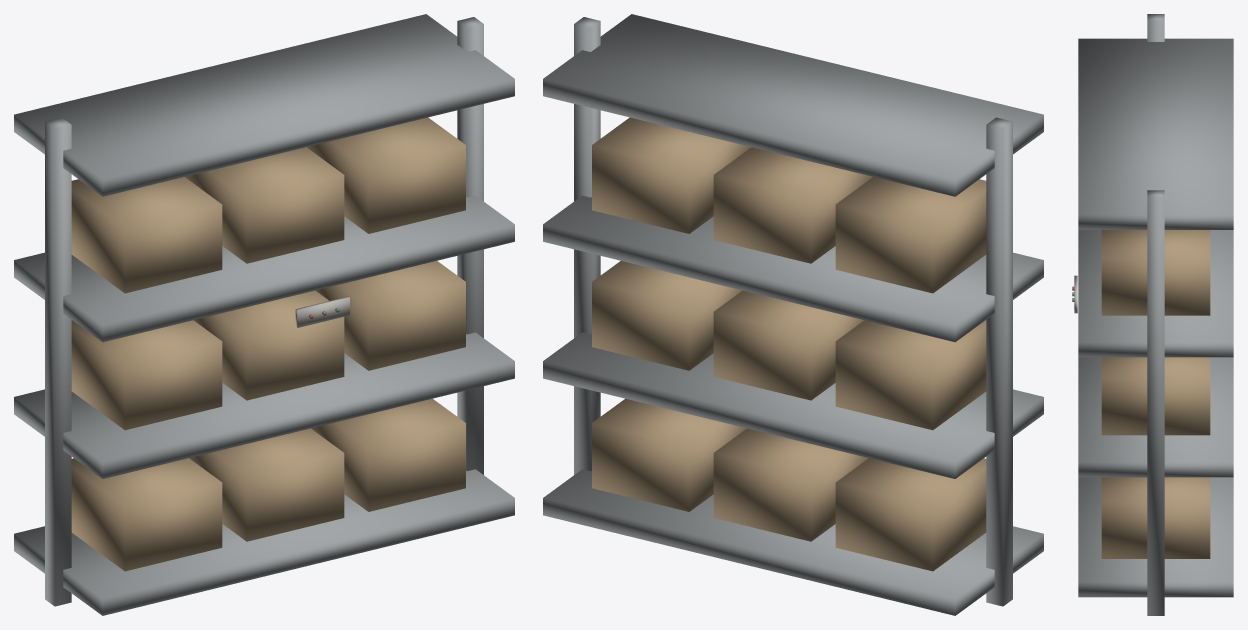
Rendered from print_drying_rack__compact.glb.
The picture shows the model from 3 angles, left to right: view 1: azimuth 30°, elevation 25°; view 2: azimuth 150°, elevation 25°; view 3: azimuth 270°, elevation 25°; orthographic projection. The views are drawn at different scales.
Parts seen in each view (by area): view 1: world; view 2: world; view 3: world.
Part boxes in pixels (box(x1,y1,x2,y2)): world: box(14, 14, 514, 615); world: box(543, 14, 1043, 615); world: box(1072, 14, 1233, 615).
Size of the model in its own units: 1.92 by 2.05 by 0.7147.
